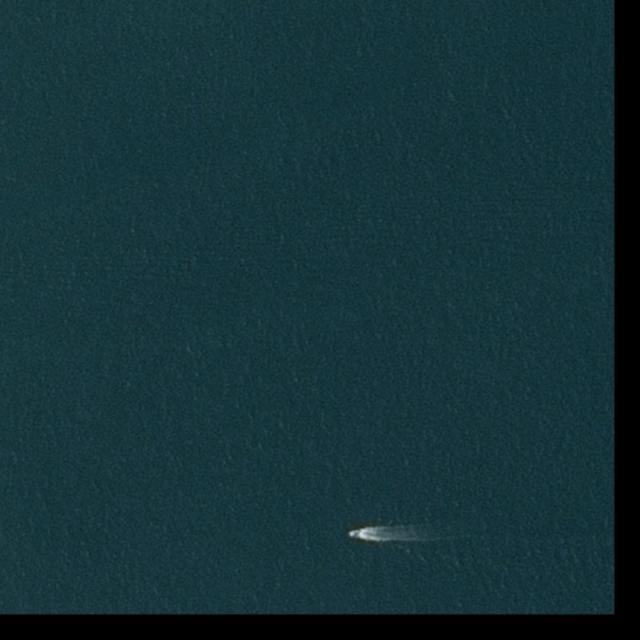ship: (349, 529, 362, 539)
